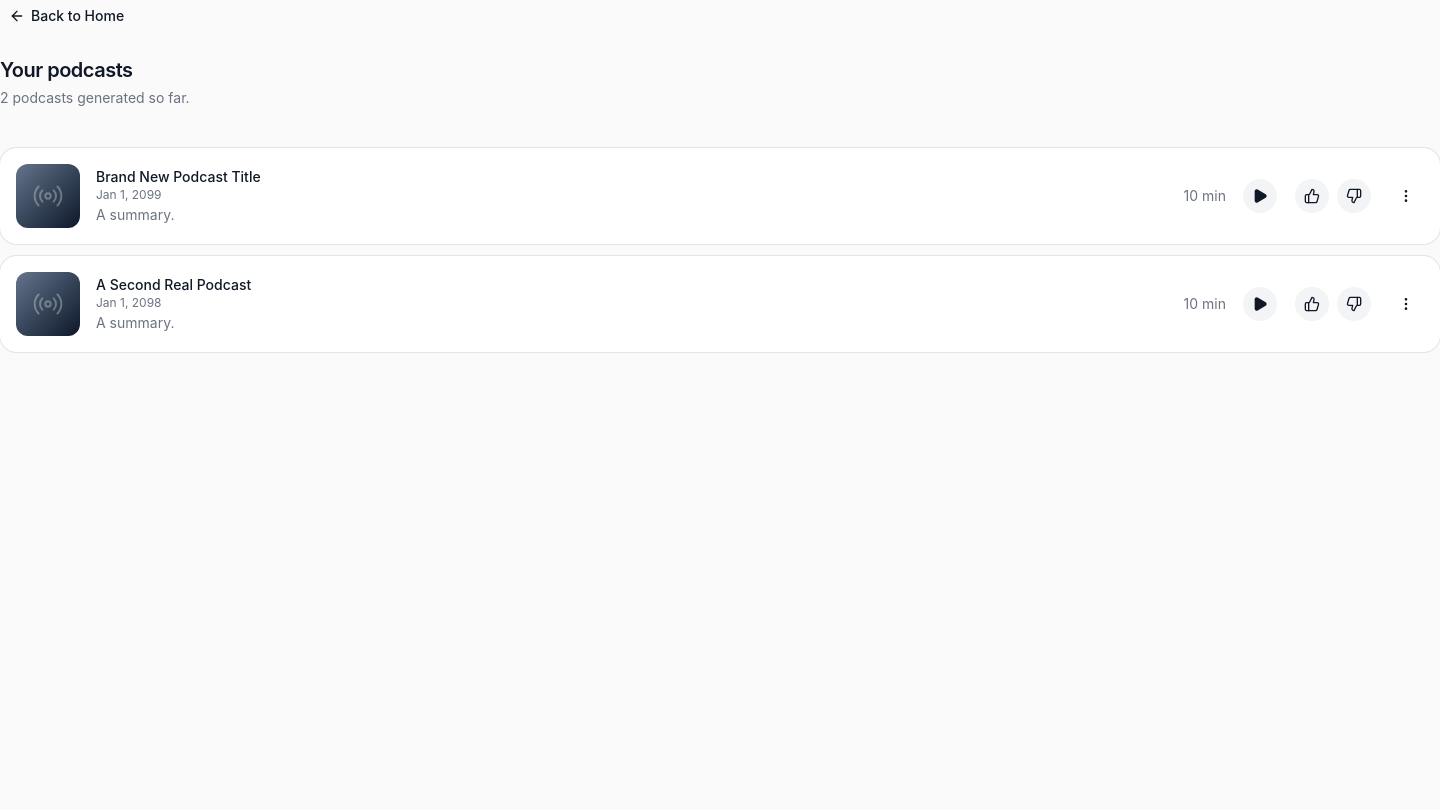
Scenario: summary and sources › lets a row's overflow menu show its sources
The image size is (1440, 810).
Check: the text "Brand New Podcast Title" is shown, box left=96, top=168, right=261, bottom=185
Step 1. Click the button named "More options for A Second Real Podcast" → (1406, 304), box left=1388, top=286, right=1424, bottom=322
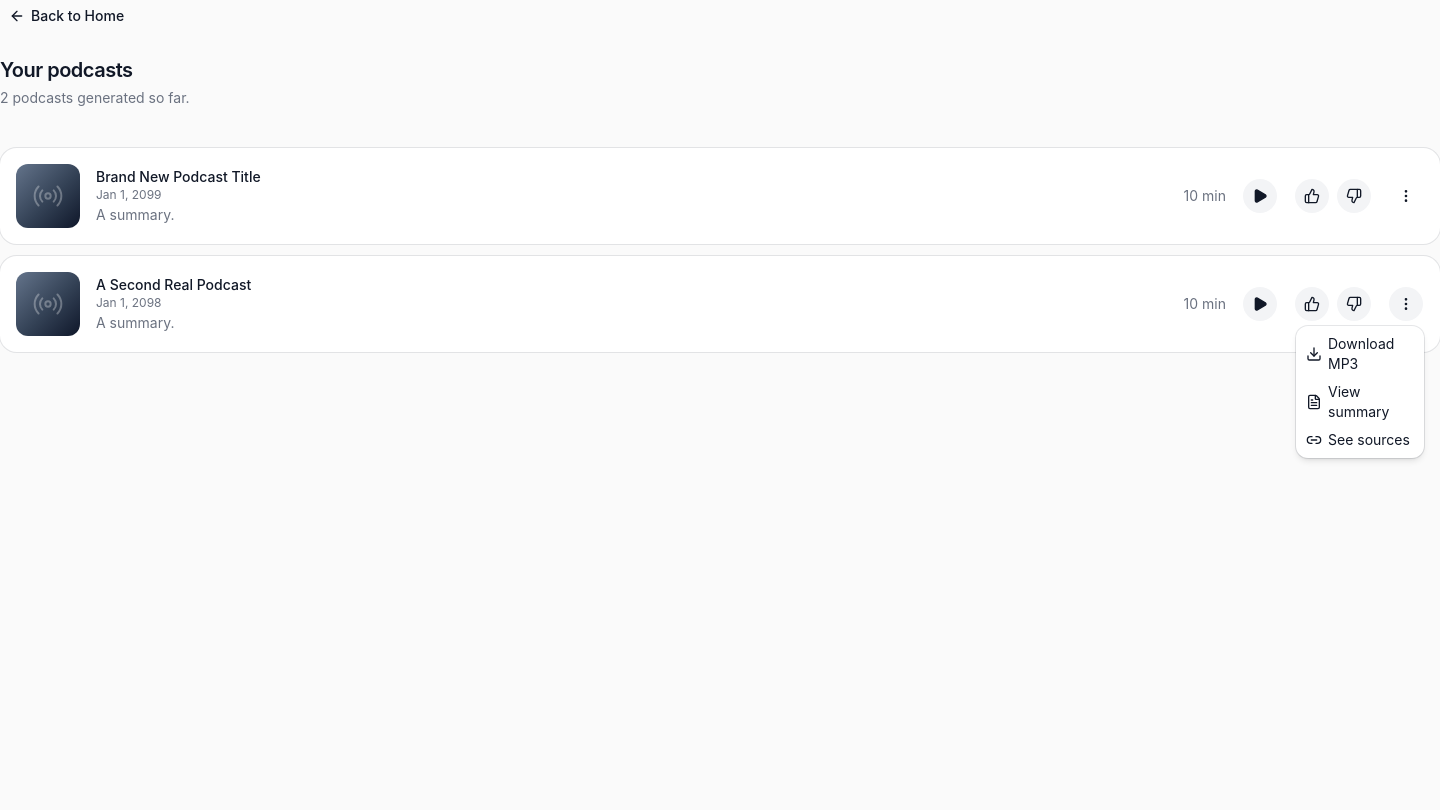
Step 2. Click the menu item "See sources" → (1360, 440), box left=1300, top=426, right=1420, bottom=454
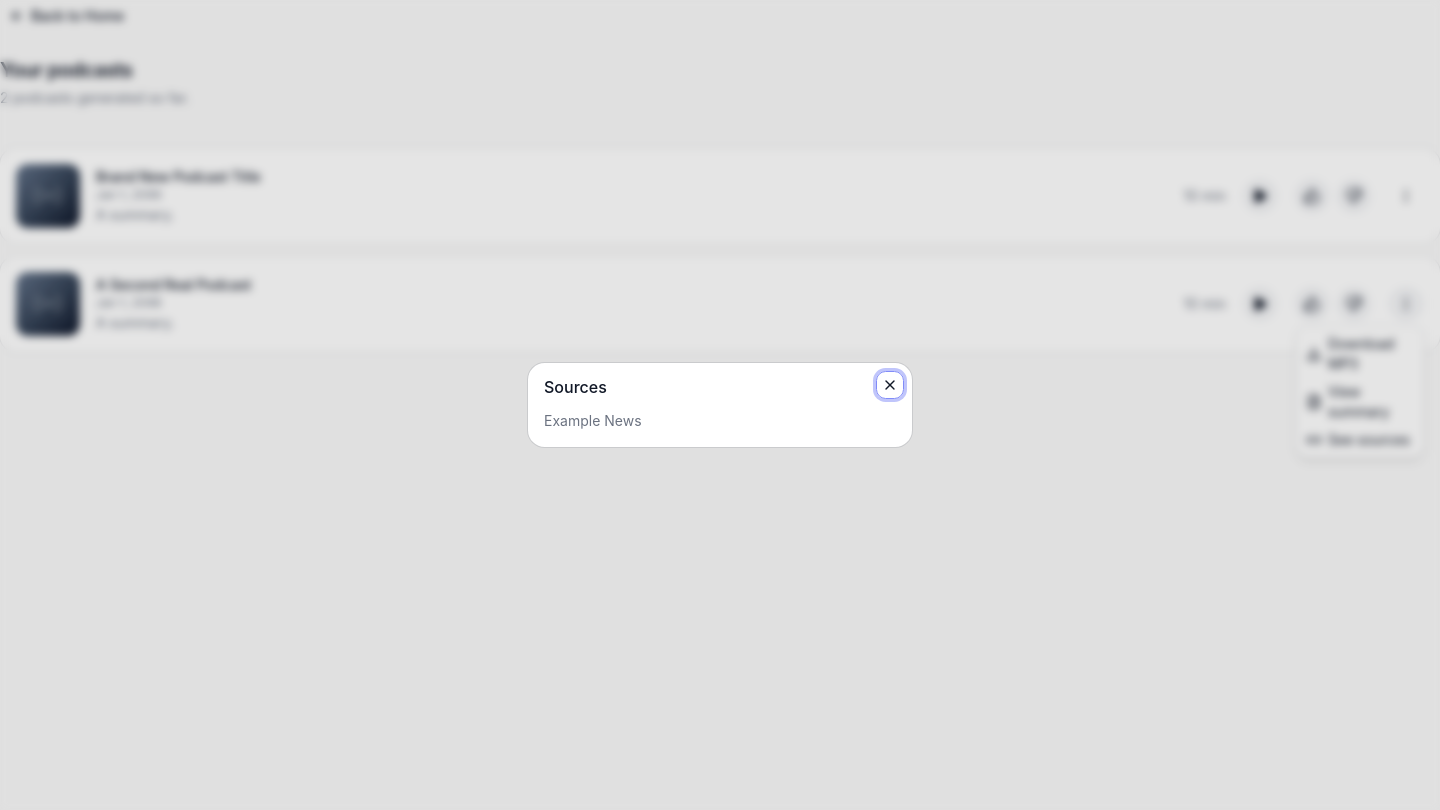
Check: the list item "Example News" is shown, box left=544, top=412, right=642, bottom=429
